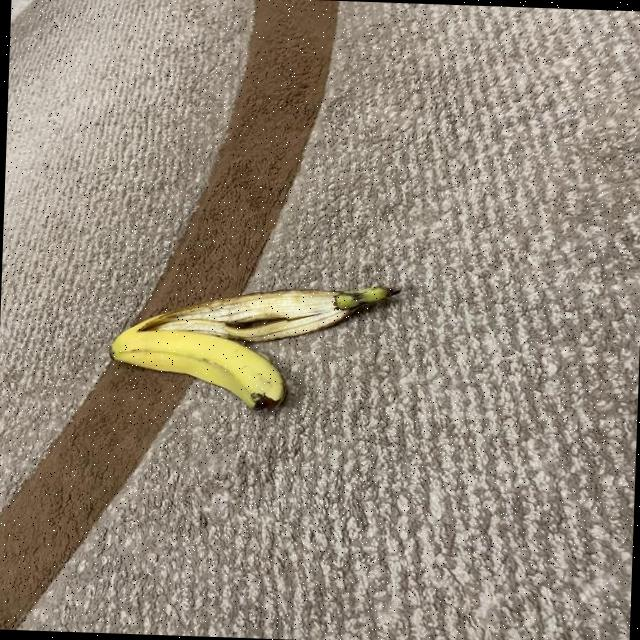banana-peel: (106, 272, 402, 416), (132, 274, 402, 348), (106, 322, 288, 412)
